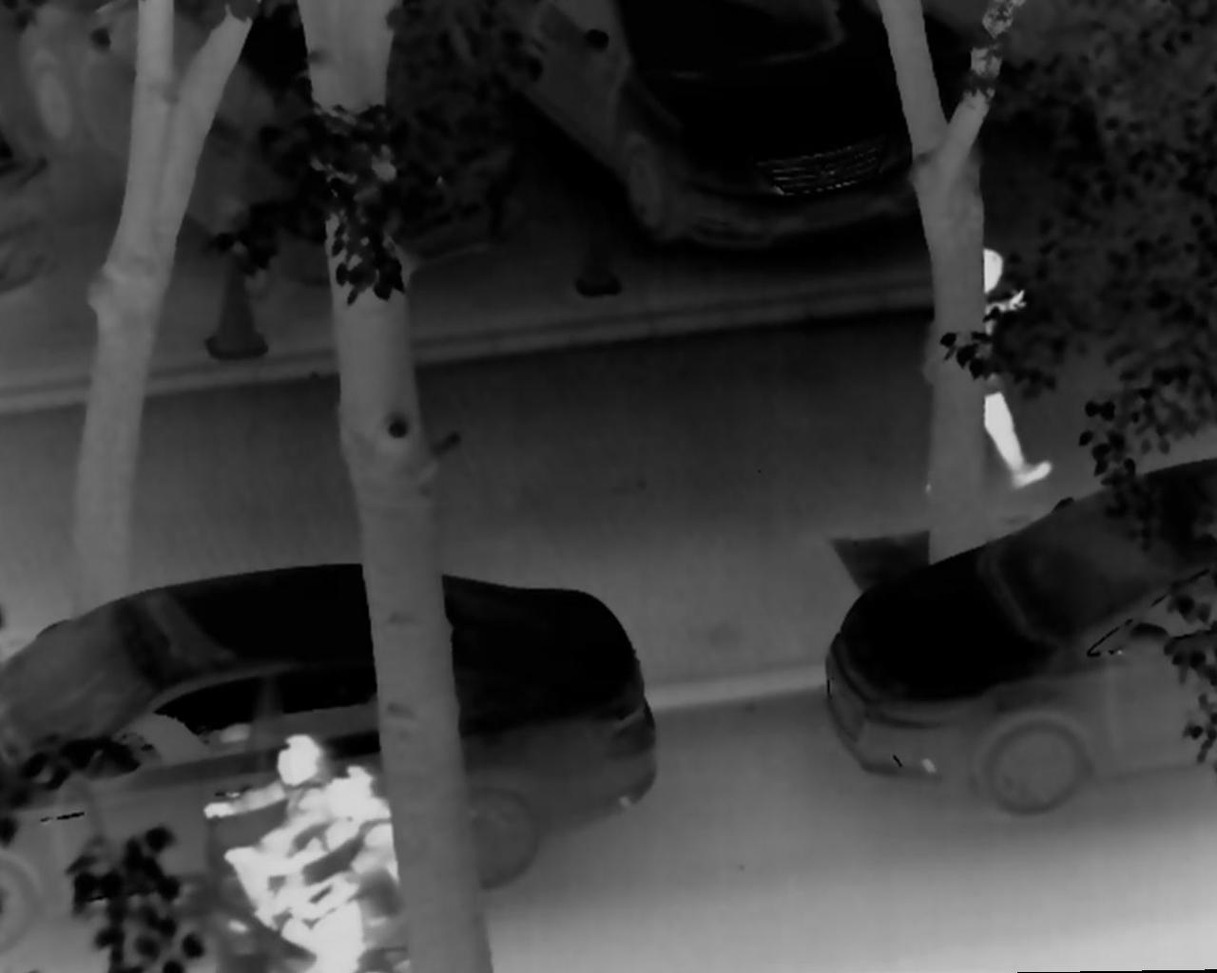person: (918, 235, 1053, 495), (255, 766, 411, 973), (206, 724, 344, 930)
